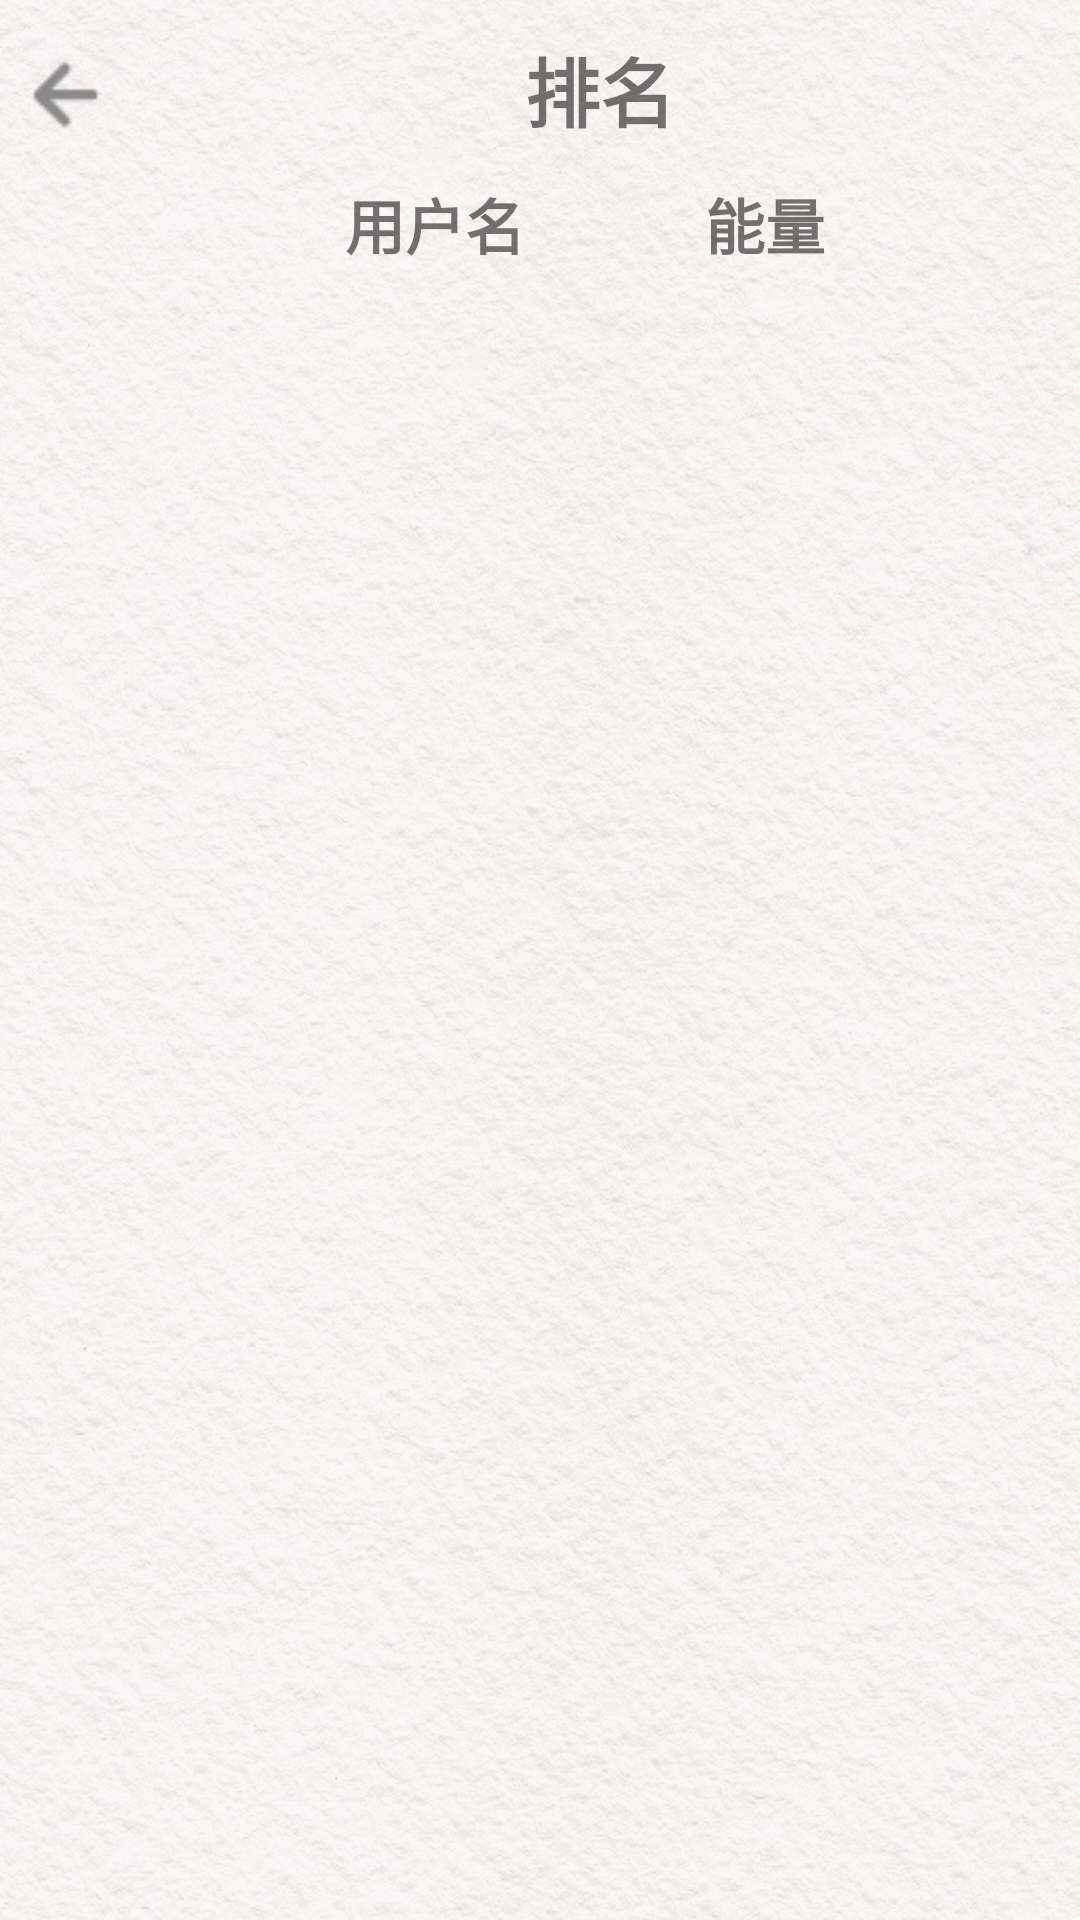

Icons on this 1080 × 1920 Android screen, each with the point to tap as [x,y]:
back: [65,94]
